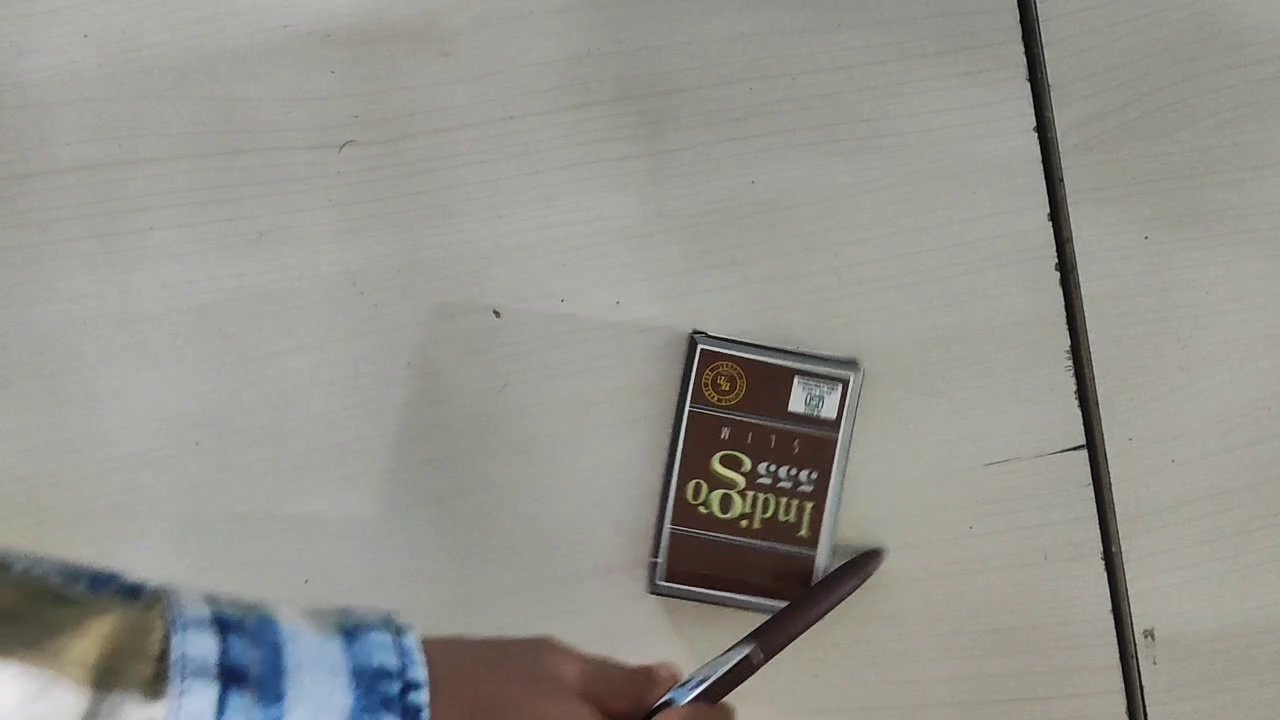BEX: (653, 344, 857, 604)
